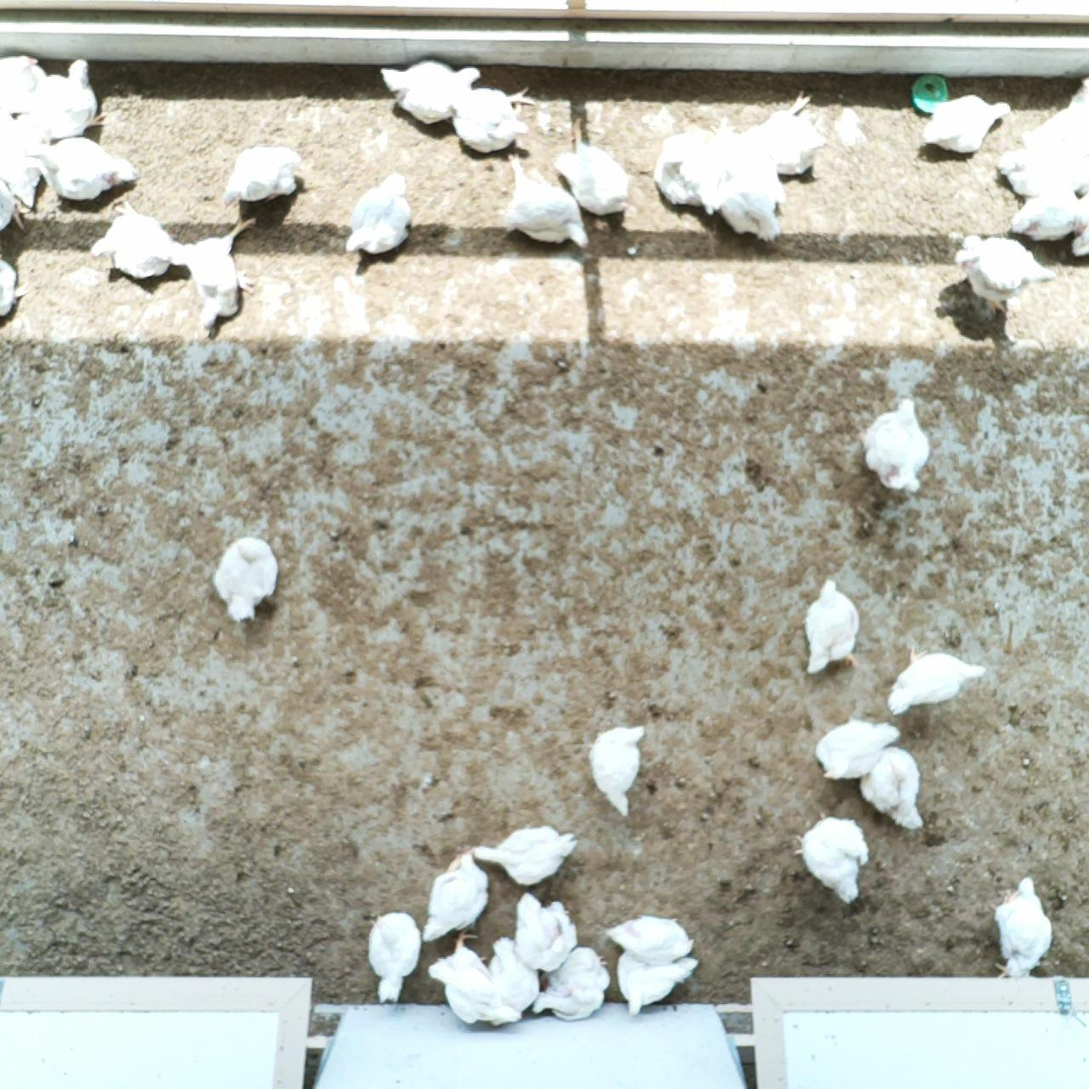chicken: (174, 214, 259, 335), (426, 927, 521, 1027), (501, 150, 592, 251), (950, 231, 1054, 318), (728, 90, 829, 176), (549, 115, 633, 217), (852, 395, 934, 496), (649, 117, 736, 212), (20, 134, 138, 204), (790, 806, 871, 907), (718, 132, 789, 246), (884, 643, 990, 719), (87, 198, 185, 279), (378, 58, 483, 128), (987, 873, 1055, 981), (204, 534, 282, 628), (469, 822, 580, 887), (421, 847, 492, 947), (29, 55, 109, 140), (443, 84, 537, 156), (812, 712, 904, 784), (342, 170, 413, 261), (531, 943, 610, 1023), (858, 744, 929, 833), (800, 577, 863, 677), (585, 720, 648, 819), (920, 91, 1013, 156), (219, 143, 304, 212), (364, 907, 423, 1005), (513, 890, 581, 974), (604, 910, 700, 963), (0, 111, 46, 211), (486, 934, 542, 1016), (1008, 187, 1082, 242), (993, 145, 1073, 191), (1023, 99, 1089, 151), (0, 52, 47, 116), (0, 176, 32, 234), (0, 253, 28, 318), (20, 310, 24, 311)
